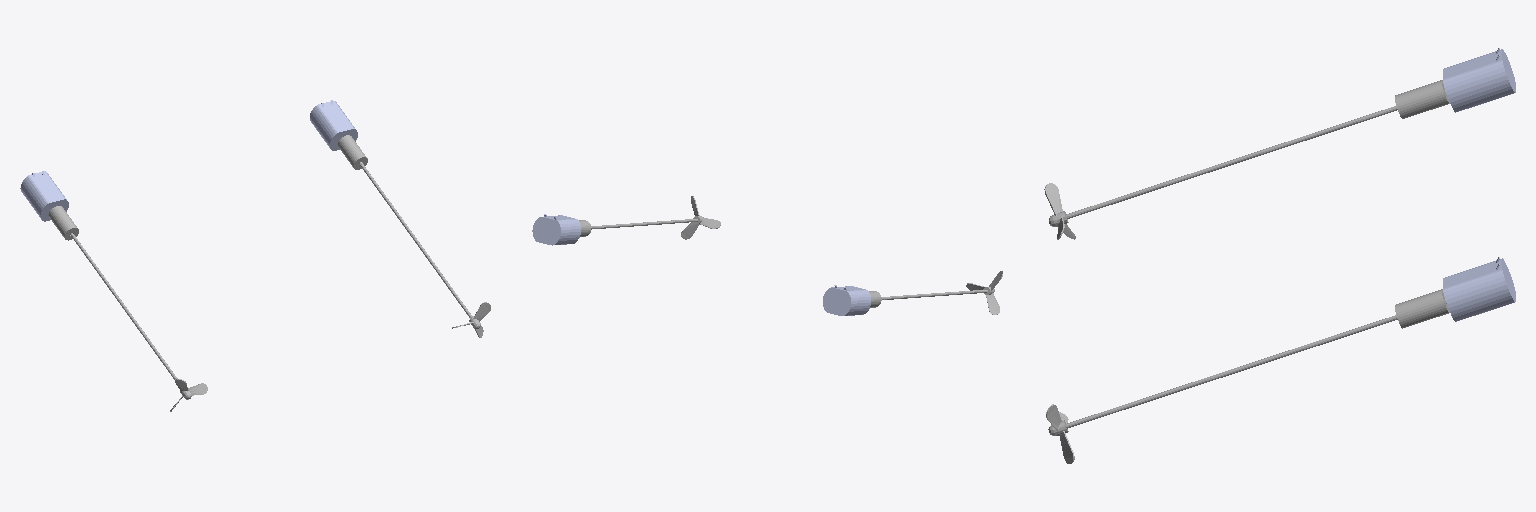
robot.urdf — microfred_world:
<?xml version="1.0" encoding="utf-8"?>
<!-- This URDF was automatically created by SolidWorks to URDF Exporter! Originally created by [author] ([email redacted]) 
     Commit Version: 1.6.0-4-g7f85cfe  Build Version: 1.6.7995.38578
     For more information, please see http://wiki.ros.org/sw_urdf_exporter -->
<robot
  name="microfred_world">
  <link
    name="chassis">
    <inertial>
      <origin
        xyz="0.00025032 0.0064565 0.036633"
        rpy="0 0 0" />
      <mass
        value="5.2783" />
      <inertia
        ixx="0.073106"
        ixy="1.4003E-05"
        ixz="-2.6555E-08"
        iyy="0.0038771"
        iyz="-0.00072596"
        izz="0.075169" />
    </inertial>
    <visual>
      <origin
        xyz="0 0 0"
        rpy="0 0 0" />
      <geometry>
        <mesh
          filename="package://microfred_URDF_10/meshes/chassis.STL" />
      </geometry>
      <material
        name="">
        <color
          rgba="0.75294 0.75294 0.75294 1" />
      </material>
    </visual>
    <collision>
      <origin
        xyz="0 0 0"
        rpy="0 0 0" />
      <geometry>
        <mesh
          filename="package://microfred_URDF_10/meshes/chassis.STL" />
      </geometry>
    </collision>
  </link>
  <link
    name="left_motor">
    <inertial>
      <origin
        xyz="1.3878E-17 3.6028E-06 -4.0126E-05"
        rpy="0 0 0" />
      <mass
        value="0.0064969" />
      <inertia
        ixx="4.6382E-07"
        ixy="-3.8938E-23"
        ixz="-8.3406E-22"
        iyy="5.1206E-07"
        iyz="-2.9618E-10"
        izz="2.6945E-07" />
    </inertial>
    <visual>
      <origin
        xyz="0 0 0"
        rpy="0 0 0" />
      <geometry>
        <mesh
          filename="package://microfred_URDF_10/meshes/left_motor.STL" />
      </geometry>
      <material
        name="">
        <color
          rgba="0.79216 0.81961 0.93333 1" />
      </material>
    </visual>
    <collision>
      <origin
        xyz="0 0 0"
        rpy="0 0 0" />
      <geometry>
        <mesh
          filename="package://microfred_URDF_10/meshes/left_motor.STL" />
      </geometry>
    </collision>
  </link>
  <joint
    name="left_motor_joint"
    type="fixed">
    <origin
      xyz="-0.098718 -0.079178 0.069748"
      rpy="1.2217 0 3.1416" />
    <parent
      link="chassis" />
    <child
      link="left_motor" />
    <axis
      xyz="0 0 0" />
  </joint>
  <link
    name="left_prop">
    <inertial>
      <origin
        xyz="-2.6043E-09 1.4741E-09 -0.053213"
        rpy="0 0 0" />
      <mass
        value="0.0022027" />
      <inertia
        ixx="1.9639E-06"
        ixy="-5.1712E-15"
        ixz="-3.885E-13"
        iyy="1.9639E-06"
        iyz="2.4387E-13"
        izz="3.1575E-08" />
    </inertial>
    <visual>
      <origin
        xyz="0 0 0"
        rpy="0 0 0" />
      <geometry>
        <mesh
          filename="package://microfred_URDF_10/meshes/left_prop.STL" />
      </geometry>
      <material
        name="">
        <color
          rgba="0.75294 0.75294 0.75294 1" />
      </material>
    </visual>
    <collision>
      <origin
        xyz="0 0 0"
        rpy="0 0 0" />
      <geometry>
        <mesh
          filename="package://microfred_URDF_10/meshes/left_prop.STL" />
      </geometry>
    </collision>
  </link>
  <joint
    name="left_prop_joint"
    type="revolute">
    <origin
      xyz="0 0 -0.0051837"
      rpy="0 0 1.5952" />
    <parent
      link="left_motor" />
    <child
      link="left_prop" />
    <axis
      xyz="0 0 1" />
    <limit
      lower="0"
      upper="0"
      effort="0"
      velocity="840" />
  </joint>
  <link
    name="right_motor">
    <inertial>
      <origin
        xyz="0 3.6028E-06 -4.0126E-05"
        rpy="0 0 0" />
      <mass
        value="0.0064969" />
      <inertia
        ixx="4.6382E-07"
        ixy="-3.6347E-24"
        ixz="-4.3461E-22"
        iyy="5.1206E-07"
        iyz="-2.9618E-10"
        izz="2.6945E-07" />
    </inertial>
    <visual>
      <origin
        xyz="0 0 0"
        rpy="0 0 0" />
      <geometry>
        <mesh
          filename="package://microfred_URDF_10/meshes/right_motor.STL" />
      </geometry>
      <material
        name="">
        <color
          rgba="0.79216 0.81961 0.93333 1" />
      </material>
    </visual>
    <collision>
      <origin
        xyz="0 0 0"
        rpy="0 0 0" />
      <geometry>
        <mesh
          filename="package://microfred_URDF_10/meshes/right_motor.STL" />
      </geometry>
    </collision>
  </link>
  <joint
    name="right_motor_joint"
    type="fixed">
    <origin
      xyz="0.098718 -0.079178 0.069748"
      rpy="1.2217 0 3.1416" />
    <parent
      link="chassis" />
    <child
      link="right_motor" />
    <axis
      xyz="0 0 0" />
  </joint>
  <link
    name="right_prop">
    <inertial>
      <origin
        xyz="2.4847E-09 2.0796E-09 -0.053213"
        rpy="0 0 0" />
      <mass
        value="0.0022027" />
      <inertia
        ixx="1.9639E-06"
        ixy="-4.7676E-15"
        ixz="3.8518E-13"
        iyy="1.9639E-06"
        iyz="3.0399E-13"
        izz="3.1575E-08" />
    </inertial>
    <visual>
      <origin
        xyz="0 0 0"
        rpy="0 0 0" />
      <geometry>
        <mesh
          filename="package://microfred_URDF_10/meshes/right_prop.STL" />
      </geometry>
      <material
        name="">
        <color
          rgba="0.75294 0.75294 0.75294 1" />
      </material>
    </visual>
    <collision>
      <origin
        xyz="0 0 0"
        rpy="0 0 0" />
      <geometry>
        <mesh
          filename="package://microfred_URDF_10/meshes/right_prop.STL" />
      </geometry>
    </collision>
  </link>
  <joint
    name="right_prop_joint"
    type="revolute">
    <origin
      xyz="0 0 -0.0051837"
      rpy="0 0 -1.5952" />
    <parent
      link="right_motor" />
    <child
      link="right_prop" />
    <axis
      xyz="0 0 1" />
    <limit
      lower="0"
      upper="0"
      effort="0"
      velocity="840" />
  </joint>
</robot>

--- Render facts (derived) ---
The picture shows the robot from 3 angles, left to right: view 1: azimuth 30°, elevation 25°; view 2: azimuth 150°, elevation 25°; view 3: azimuth 270°, elevation 25°; orthographic projection.
Model microfred_world with 5 links and 4 joints (2 revolute, 2 fixed), rooted at chassis, posed every joint at zero.
Visible links, largest first — view 1: right_prop, left_prop, left_motor, right_motor; view 2: left_motor, right_motor, right_prop, left_prop; view 3: left_prop, right_prop, left_motor, right_motor.
Boxes of the visible links, x1,y1,x2,y2 form: right_prop: (337,135,490,337); left_prop: (48,206,207,411); left_motor: (20,171,68,221); right_motor: (310,100,357,150); left_motor: (823,285,870,315); right_motor: (532,214,580,245); right_prop: (579,196,720,239); left_prop: (869,271,1002,314); left_prop: (1044,80,1449,239); right_prop: (1046,289,1449,463); left_motor: (1443,48,1515,112); right_motor: (1443,257,1515,321).
Bounding box of the posed robot: 0.2164 × 0.1878 × 0.0863 m (x, y, z).
4 mesh visuals loaded from 5 distinct referenced files (4 binary STL); not drawn: 1 (reference not matched to a file when rendering).
